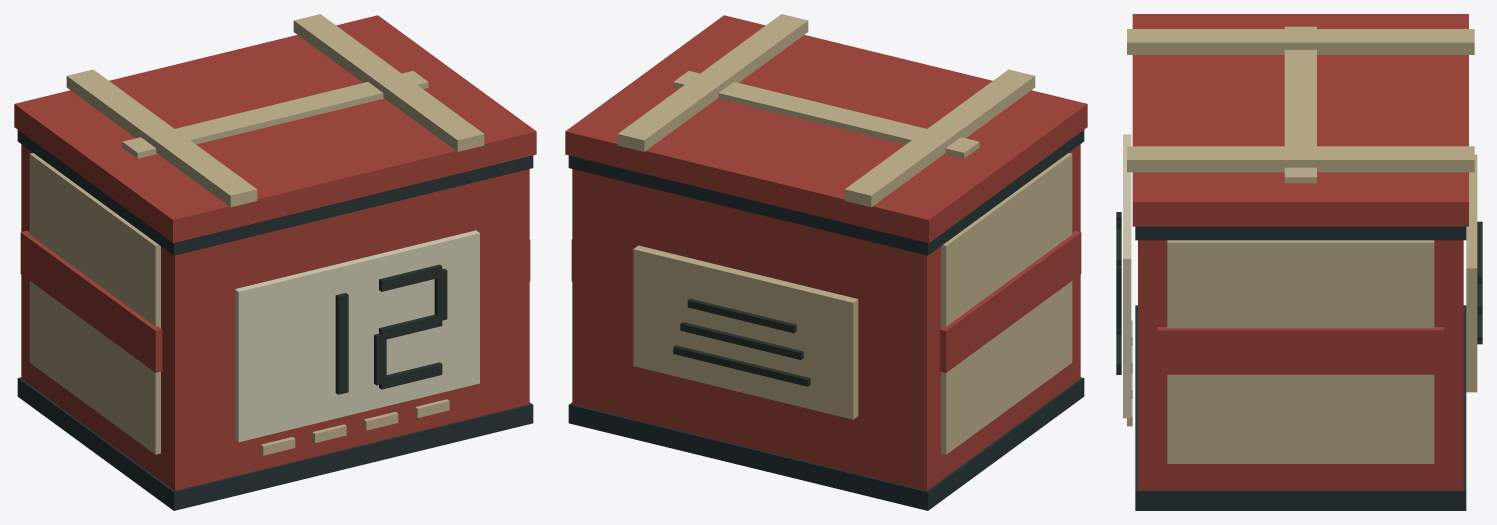
The model's file is FSA_AMMO_Pack_12Gauge.glb.
The picture shows the model from 3 angles, left to right: view 1: azimuth 30°, elevation 25°; view 2: azimuth 150°, elevation 25°; view 3: azimuth 270°, elevation 25°; orthographic projection. The views are drawn at different scales.
Visible parts, largest first — view 1: ClosedLid, Package, LabelPlate, Fold_-1, BaseSeam, LidSeam, SealEnd_-1, PackingBand_-1, PackingBand_1, TopFold, Caliber_1_a, Caliber_1_d (+5 smaller); view 2: Package, ClosedLid, RearPanel, Fold_-1, BaseSeam, LidSeam, SealEnd_-1, PackingBand_-1, PackingBand_1, TopFold, RearLine_0, RearLine_1 (+1 smaller); view 3: ClosedLid, Fold_1, Package, SealEnd_1, PackingBand_1, PackingBand_-1, BaseSeam, LidSeam, TopFold, RearPanel, LabelPlate.
Boxes of the visible parts, x1,y1,x2,y2 form: ClosedLid: [14, 15, 536, 243]; Package: [21, 144, 529, 490]; LabelPlate: [235, 230, 479, 442]; Fold_-1: [29, 153, 160, 454]; BaseSeam: [17, 377, 533, 510]; LidSeam: [17, 130, 533, 255]; SealEnd_-1: [20, 230, 162, 372]; PackingBand_-1: [66, 69, 257, 207]; PackingBand_1: [293, 14, 484, 151]; TopFold: [122, 71, 428, 158]; Caliber_1_a: [379, 264, 442, 291]; Caliber_1_d: [379, 362, 442, 389]; Package: [572, 144, 1080, 490]; ClosedLid: [565, 15, 1087, 243]; RearPanel: [633, 245, 858, 419]; Fold_-1: [941, 153, 1072, 454]; BaseSeam: [568, 377, 1084, 510]; LidSeam: [568, 130, 1084, 255]; SealEnd_-1: [939, 230, 1081, 372]; PackingBand_-1: [844, 69, 1035, 207]; PackingBand_1: [617, 14, 808, 151]; TopFold: [673, 71, 979, 158]; RearLine_0: [673, 345, 810, 386]; RearLine_1: [680, 322, 803, 359]; ClosedLid: [1132, 14, 1468, 226]; Fold_1: [1167, 240, 1434, 463]; Package: [1138, 240, 1463, 490]; SealEnd_1: [1157, 327, 1444, 374]; PackingBand_1: [1127, 146, 1474, 172]; PackingBand_-1: [1127, 29, 1474, 54]; BaseSeam: [1135, 305, 1466, 510]; LidSeam: [1135, 226, 1466, 240]; TopFold: [1284, 26, 1316, 183]; RearPanel: [1466, 154, 1477, 392]; LabelPlate: [1123, 134, 1131, 418].
Bounding box in the file's own units: 0.169 × 0.1315 × 0.135.
